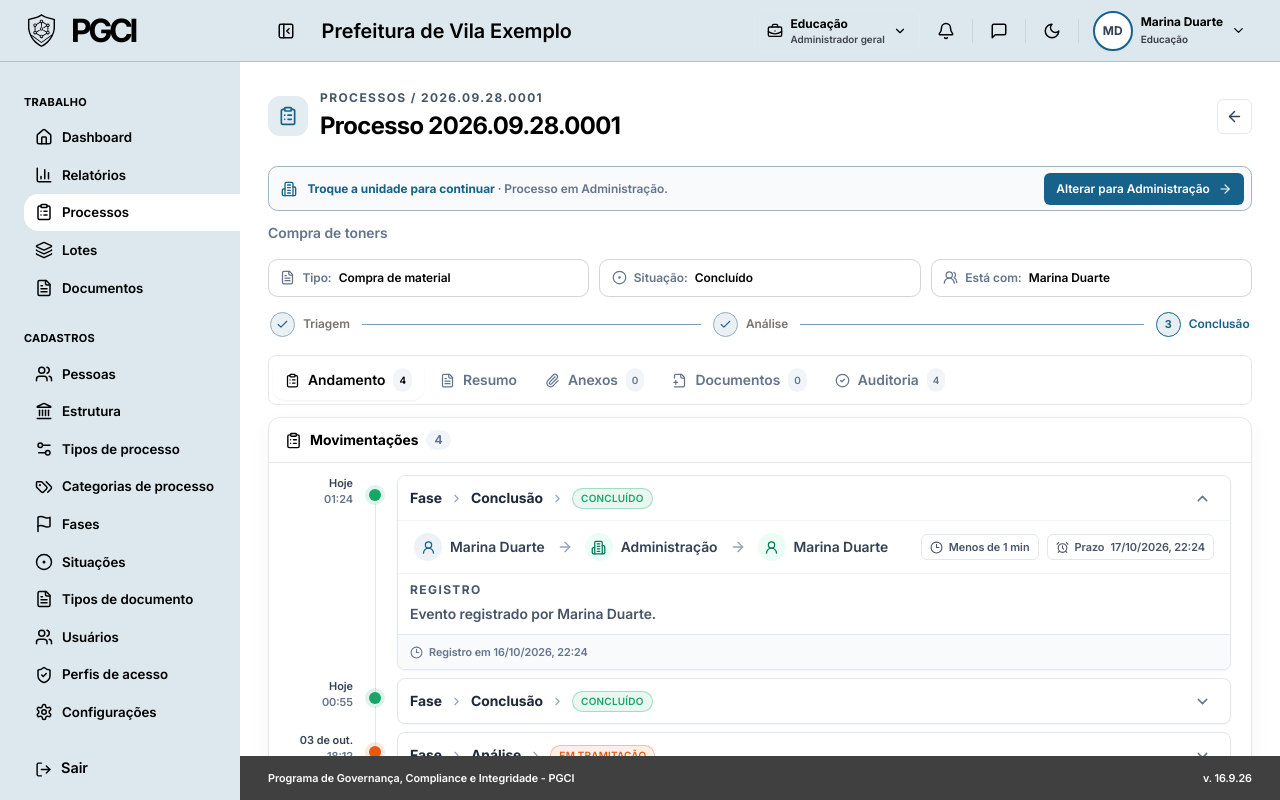
jornada principal da interface › troca para a unidade do processo quando o usuário possui vínculo e mantém a unidade principal
The width and height of the screenshot is (1280, 800).
Expected: the text "Troque a unidade para continuar" is shown, 307,181 -> 495,196
Expected: the message shows "Administração", 581,181 -> 664,196
Step 1. Click the button "Alterar para Administração" → (1144, 189), box 1044,173 -> 1244,205
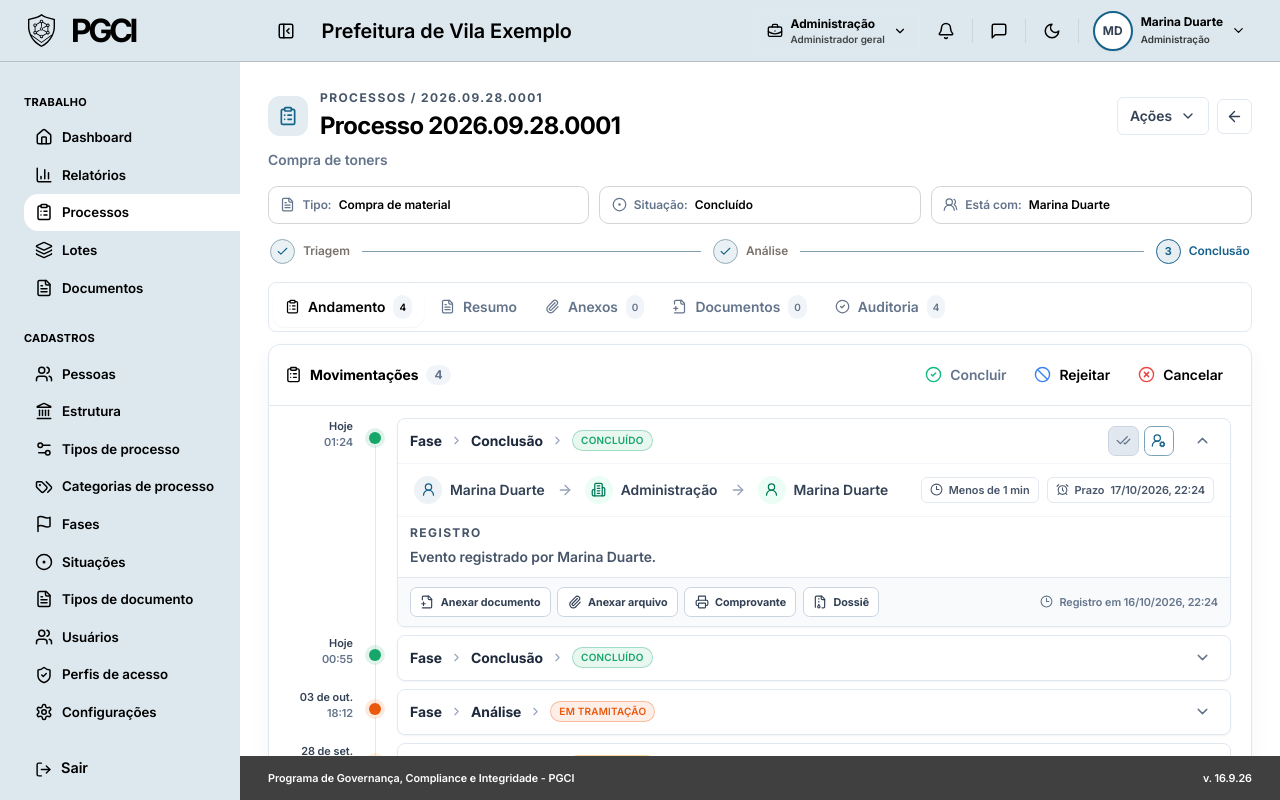
Expected: the button "Concluir" is shown, 913,357 -> 1018,393
Expected: the text "Troque a unidade para continuar" is gone
